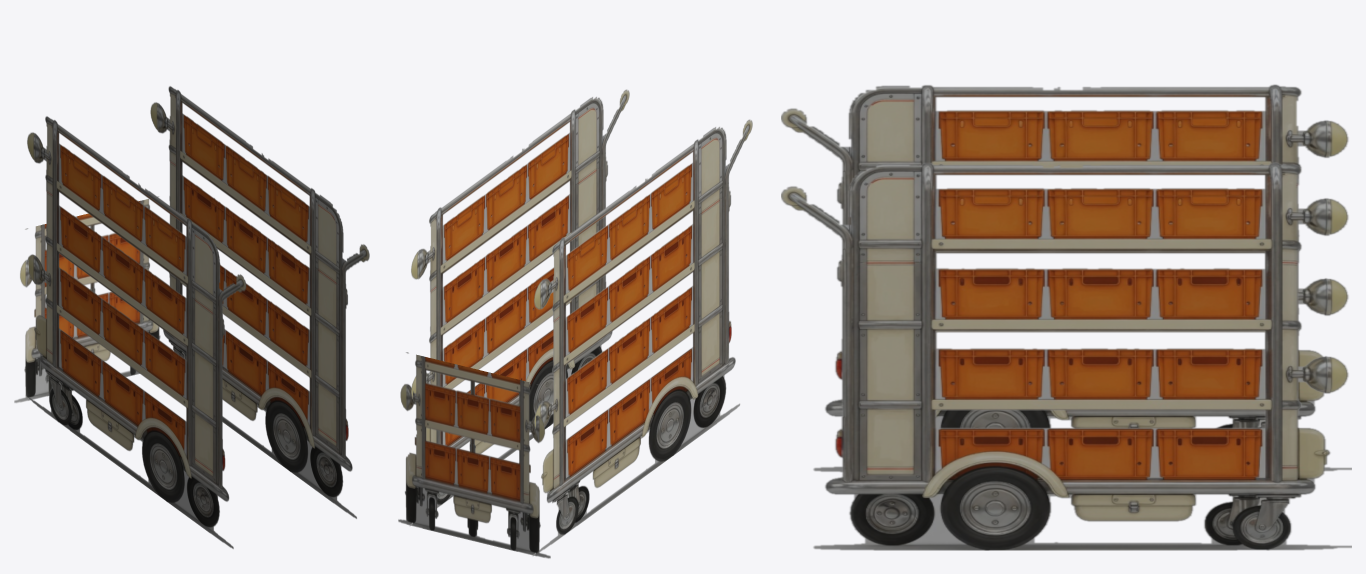
Rendered from hydroponics_harvest_cart.glb.
3 renders of one model, left to right at view 1: azimuth 30°, elevation 25°; view 2: azimuth 150°, elevation 25°; view 3: azimuth 270°, elevation 25°, orthographic. The views are drawn at different scales.
Visible parts, largest first — view 1: hydroponics_harvest_cart; view 2: hydroponics_harvest_cart; view 3: hydroponics_harvest_cart.
Part boxes in pixels (left/top/right/bottom): hydroponics_harvest_cart: left=14, top=86, right=369, bottom=548; hydroponics_harvest_cart: left=398, top=89, right=752, bottom=558; hydroponics_harvest_cart: left=781, top=84, right=1351, bottom=550.
Bounding box in the file's own units: 0.7987 × 1.77 × 2.
1 material, 1 textured.
